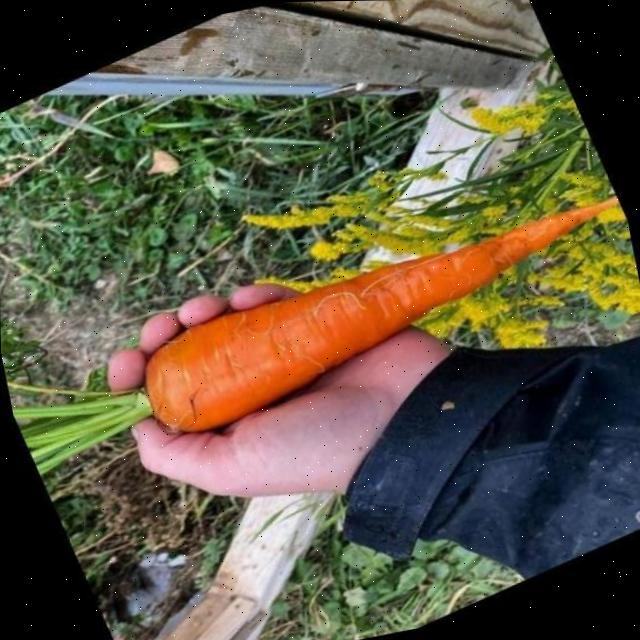carrot: (14, 196, 616, 472)
